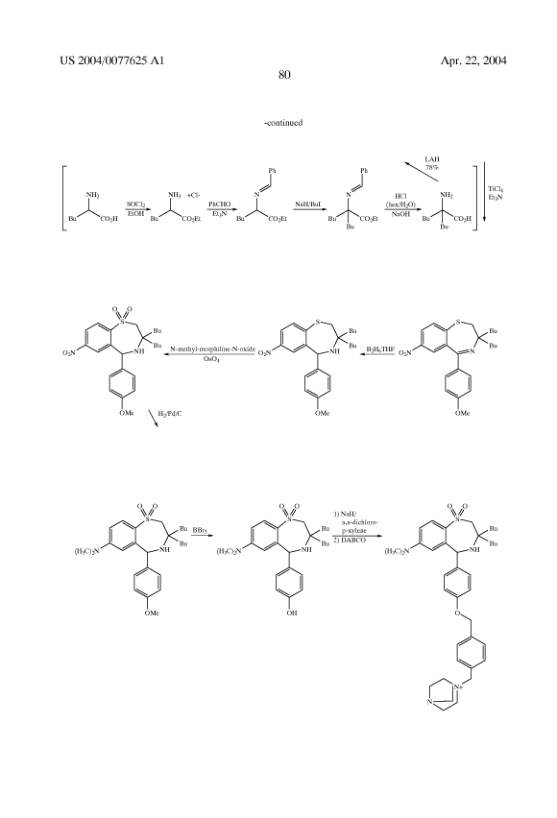compound-structure: (386, 499, 510, 723), (215, 500, 329, 640), (74, 496, 189, 629), (59, 303, 160, 420), (258, 317, 360, 429), (398, 311, 500, 422), (328, 161, 377, 240), (236, 168, 286, 239), (423, 188, 473, 240), (68, 190, 119, 232), (151, 190, 203, 230)
reaction: (32, 144, 557, 766)
reaction-arrow: (162, 342, 257, 389), (333, 512, 386, 548), (479, 165, 503, 226), (405, 151, 446, 186), (355, 344, 405, 365), (142, 408, 187, 431), (386, 193, 421, 218), (290, 197, 329, 218), (121, 199, 152, 223), (208, 201, 239, 221), (193, 524, 212, 544)
